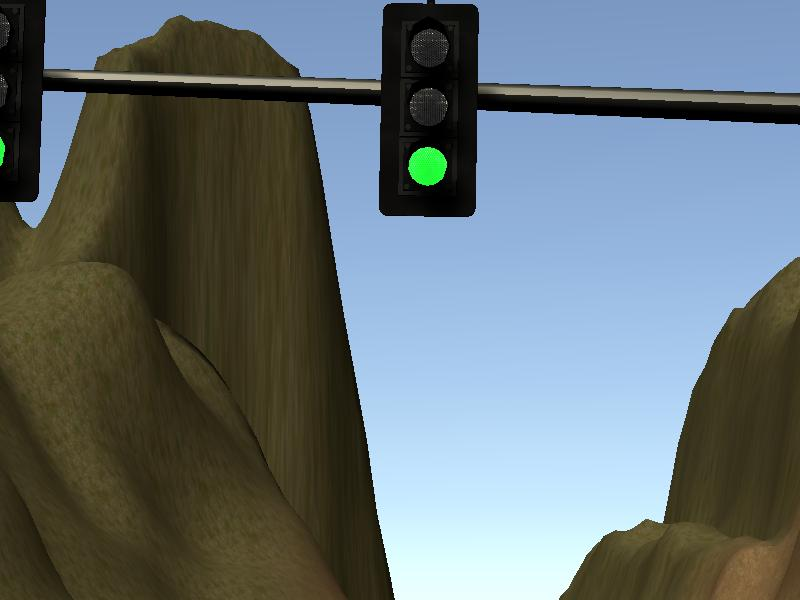green: (379, 2, 479, 217)
